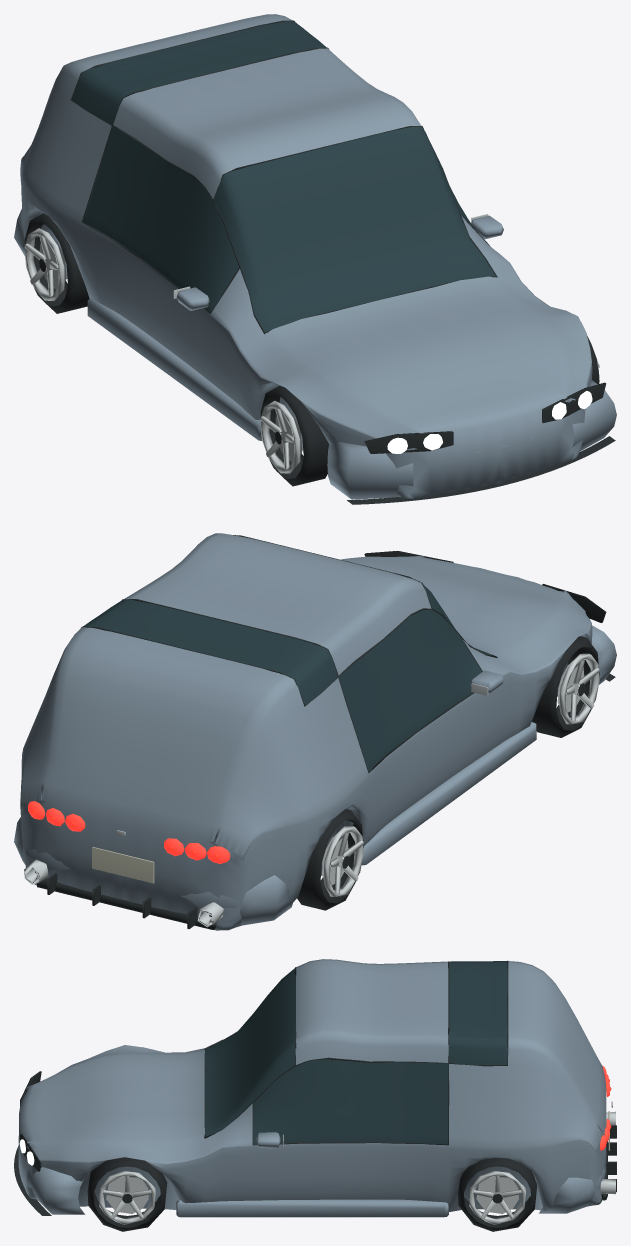
Rendered from caldorva-dorith.glb.
3 views of the same model, one above another, from view 1: azimuth 30°, elevation 25°; view 2: azimuth 150°, elevation 25°; view 3: azimuth 270°, elevation 25° (orthographic). The views are drawn at different scales.
Visible parts, largest first — view 1: cristallo_ant, scocca, cofano, tetto, cristallo_sx, porta_sx, cristallo_post, paraurti_ant, minigonna_sx, portellone, ruota_ant_sx_gomma, ruota_post_sx_gomma (+10 smaller); view 2: portellone, scocca, tetto, cristallo_sx, cofano, cristallo_post, porta_sx, minigonna_sx, paraurti_post, ruota_ant_sx_gomma, ruota_post_sx_gomma, targa (+9 smaller); view 3: scocca, tetto, cristallo_dx, cofano, porta_dx, portellone, cristallo_ant, cristallo_post, minigonna_dx, ruota_ant_dx_gomma, ruota_post_dx_gomma, paraurti_ant (+11 smaller).
Part boxes in pixels (left/top/right/bottom): cristallo_ant: left=214, top=126, right=495, bottom=332; scocca: left=20, top=90, right=592, bottom=498; cofano: left=264, top=276, right=570, bottom=424; tetto: left=113, top=48, right=421, bottom=198; cristallo_sx: left=83, top=126, right=239, bottom=313; porta_sx: left=81, top=222, right=224, bottom=392; cristallo_post: left=71, top=21, right=326, bottom=124; paraurti_ant: left=327, top=380, right=616, bottom=499; minigonna_sx: left=87, top=298, right=261, bottom=440; portellone: left=50, top=14, right=292, bottom=98; ruota_ant_sx_gomma: left=260, top=386, right=328, bottom=486; ruota_post_sx_gomma: left=24, top=213, right=89, bottom=313; portellone: left=36, top=627, right=303, bottom=845; scocca: left=20, top=556, right=592, bottom=930; tetto: left=124, top=533, right=431, bottom=675; cristallo_sx: left=339, top=609, right=481, bottom=771; cofano: left=341, top=556, right=570, bottom=657; cristallo_post: left=83, top=599, right=337, bottom=705; porta_sx: left=363, top=687, right=500, bottom=846; minigonna_sx: left=361, top=722, right=536, bottom=865; paraurti_post: left=14, top=817, right=292, bottom=925; ruota_ant_sx_gomma: left=532, top=636, right=599, bottom=737; ruota_post_sx_gomma: left=297, top=809, right=363, bottom=910; targa: left=92, top=847, right=154, bottom=883; scocca: left=18, top=1039, right=606, bottom=1211; tetto: left=295, top=959, right=448, bottom=1064; cristallo_dx: left=253, top=1059, right=448, bottom=1144; cofano: left=40, top=1049, right=204, bottom=1146; porta_dx: left=238, top=1143, right=448, bottom=1205; portellone: left=507, top=961, right=606, bottom=1135; cristallo_ant: left=205, top=968, right=295, bottom=1136; cristallo_post: left=448, top=961, right=507, bottom=1064; minigonna_dx: left=176, top=1199, right=448, bottom=1217; ruota_ant_dx_gomma: left=87, top=1157, right=166, bottom=1231; ruota_post_dx_gomma: left=458, top=1157, right=536, bottom=1231; paraurti_ant: left=18, top=1138, right=84, bottom=1214.
Bounding box in the file's own units: 2.43 × 1.71 × 5.12.
